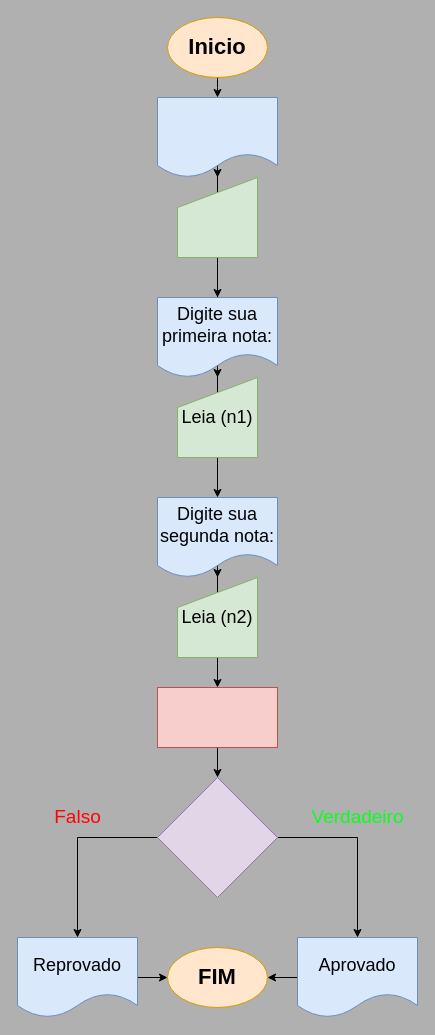
Some shapes in this 435 by 1035 pixel diagram are drawn without their labels. The centre of each missing label's shape, as x and y in pixels:
Digite seu nome...: (217,137)
Leia (nome): (217,217)
media = (n1 + n2)/2: (217,717)
Se media >= 6: (217,837)
